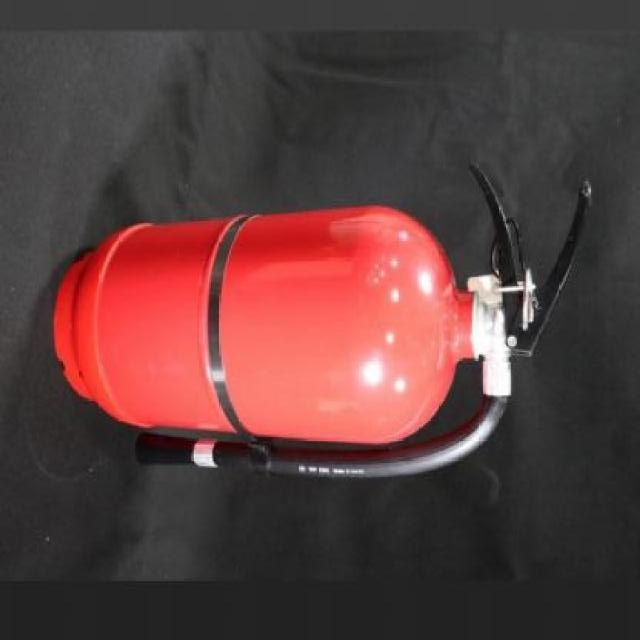fire extinguisher: (52, 162, 592, 480)
